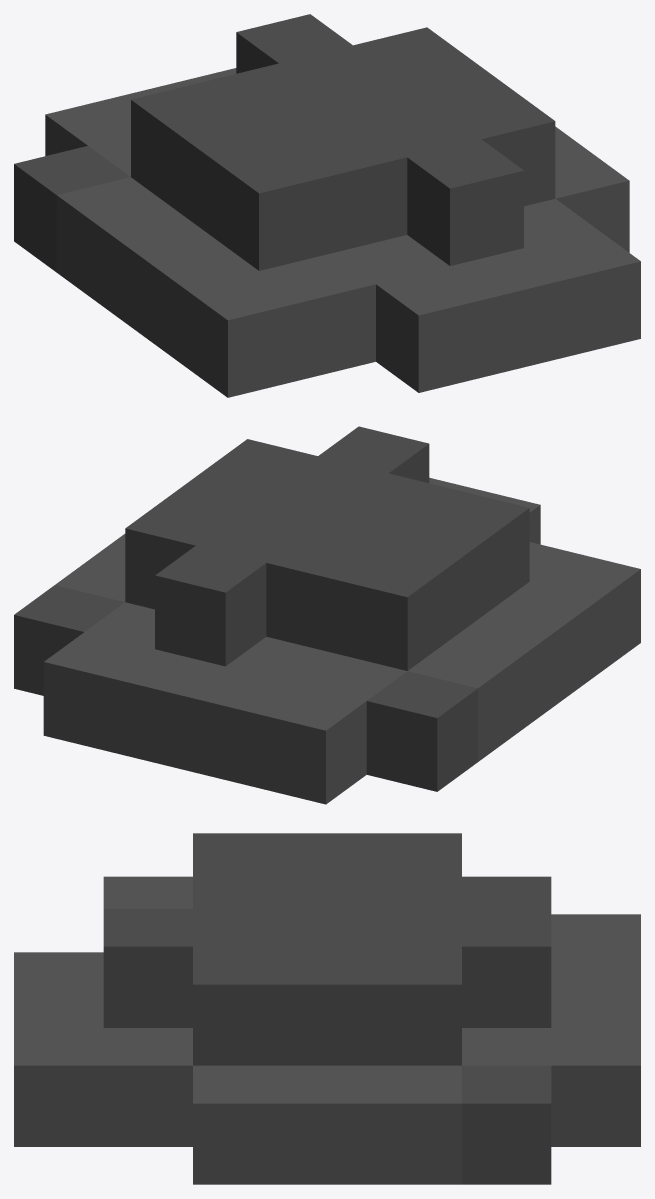
The model's file is small-stone.glb.
3 renders of one model, top to bottom at view 1: azimuth 30°, elevation 25°; view 2: azimuth 150°, elevation 25°; view 3: azimuth 270°, elevation 25°, orthographic. The views are drawn at different scales.
Parts seen in each view (by area): view 1: Untitled; view 2: Untitled; view 3: Untitled.
Boxes of the visible parts, <box> form: Untitled: <box>14,14,640,397</box>; Untitled: <box>14,426,640,804</box>; Untitled: <box>14,833,640,1184</box>.
Size of the model in its own units: 0.6 by 0.2 by 0.7.
1 material, 1 textured.
